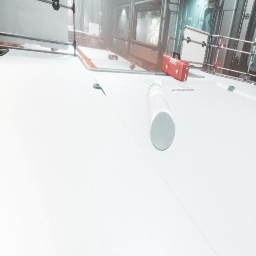0: (147, 83, 176, 151), (68, 27, 70, 30), (76, 46, 76, 47)
EmergencyPhone ,: (76, 7, 78, 12)
FireAlarm ,: (217, 62, 221, 70), (78, 12, 80, 16), (129, 28, 131, 32)
FireExtinguisher ]: (129, 64, 134, 70)
FirstAidBox ,: (162, 51, 190, 82), (106, 46, 109, 51), (93, 34, 96, 35)
NitrogenTank ,: (6, 45, 26, 48), (108, 54, 118, 60), (50, 48, 59, 51), (132, 61, 135, 68)
SafetySwitchPanel ,: (163, 40, 169, 56)
